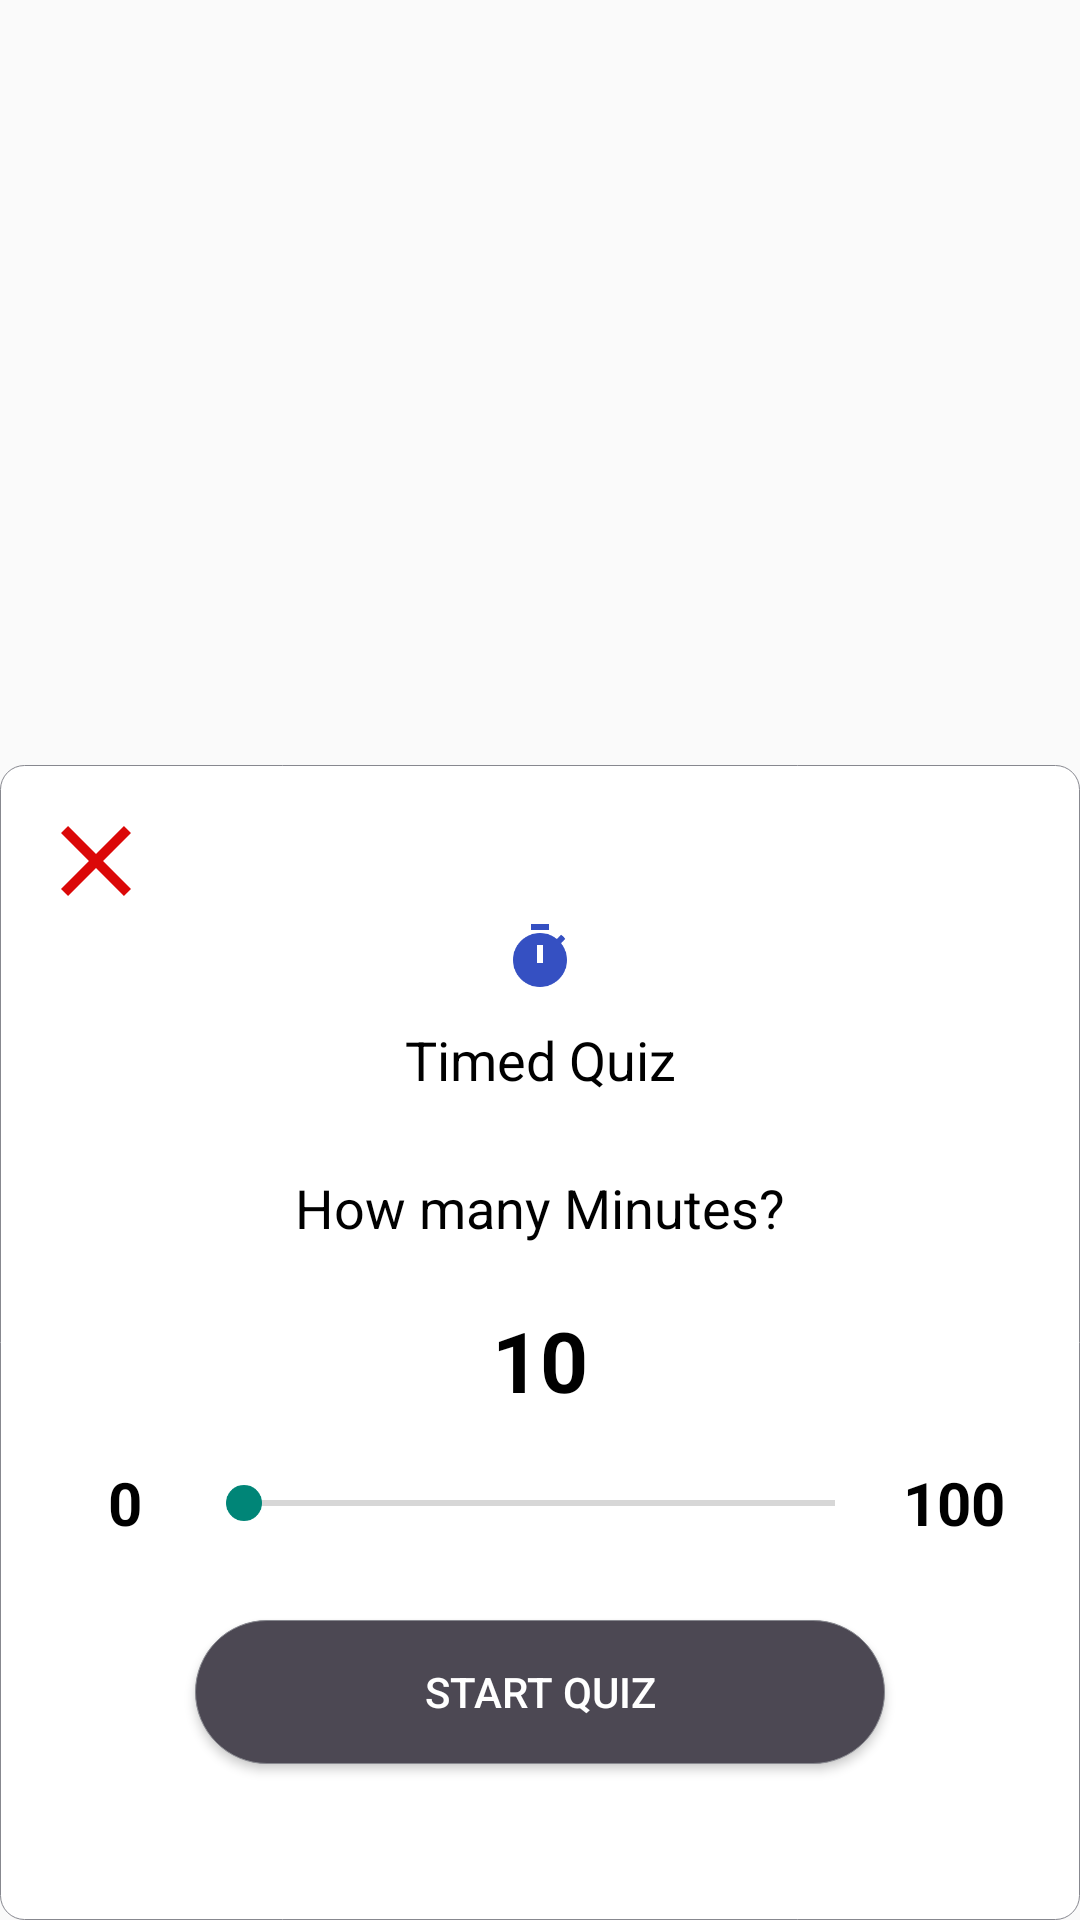

Screen size 1080*1920. Icon name, then its box in pixels as (x1, y1, x2, y2):
close: (61, 826, 131, 896)
